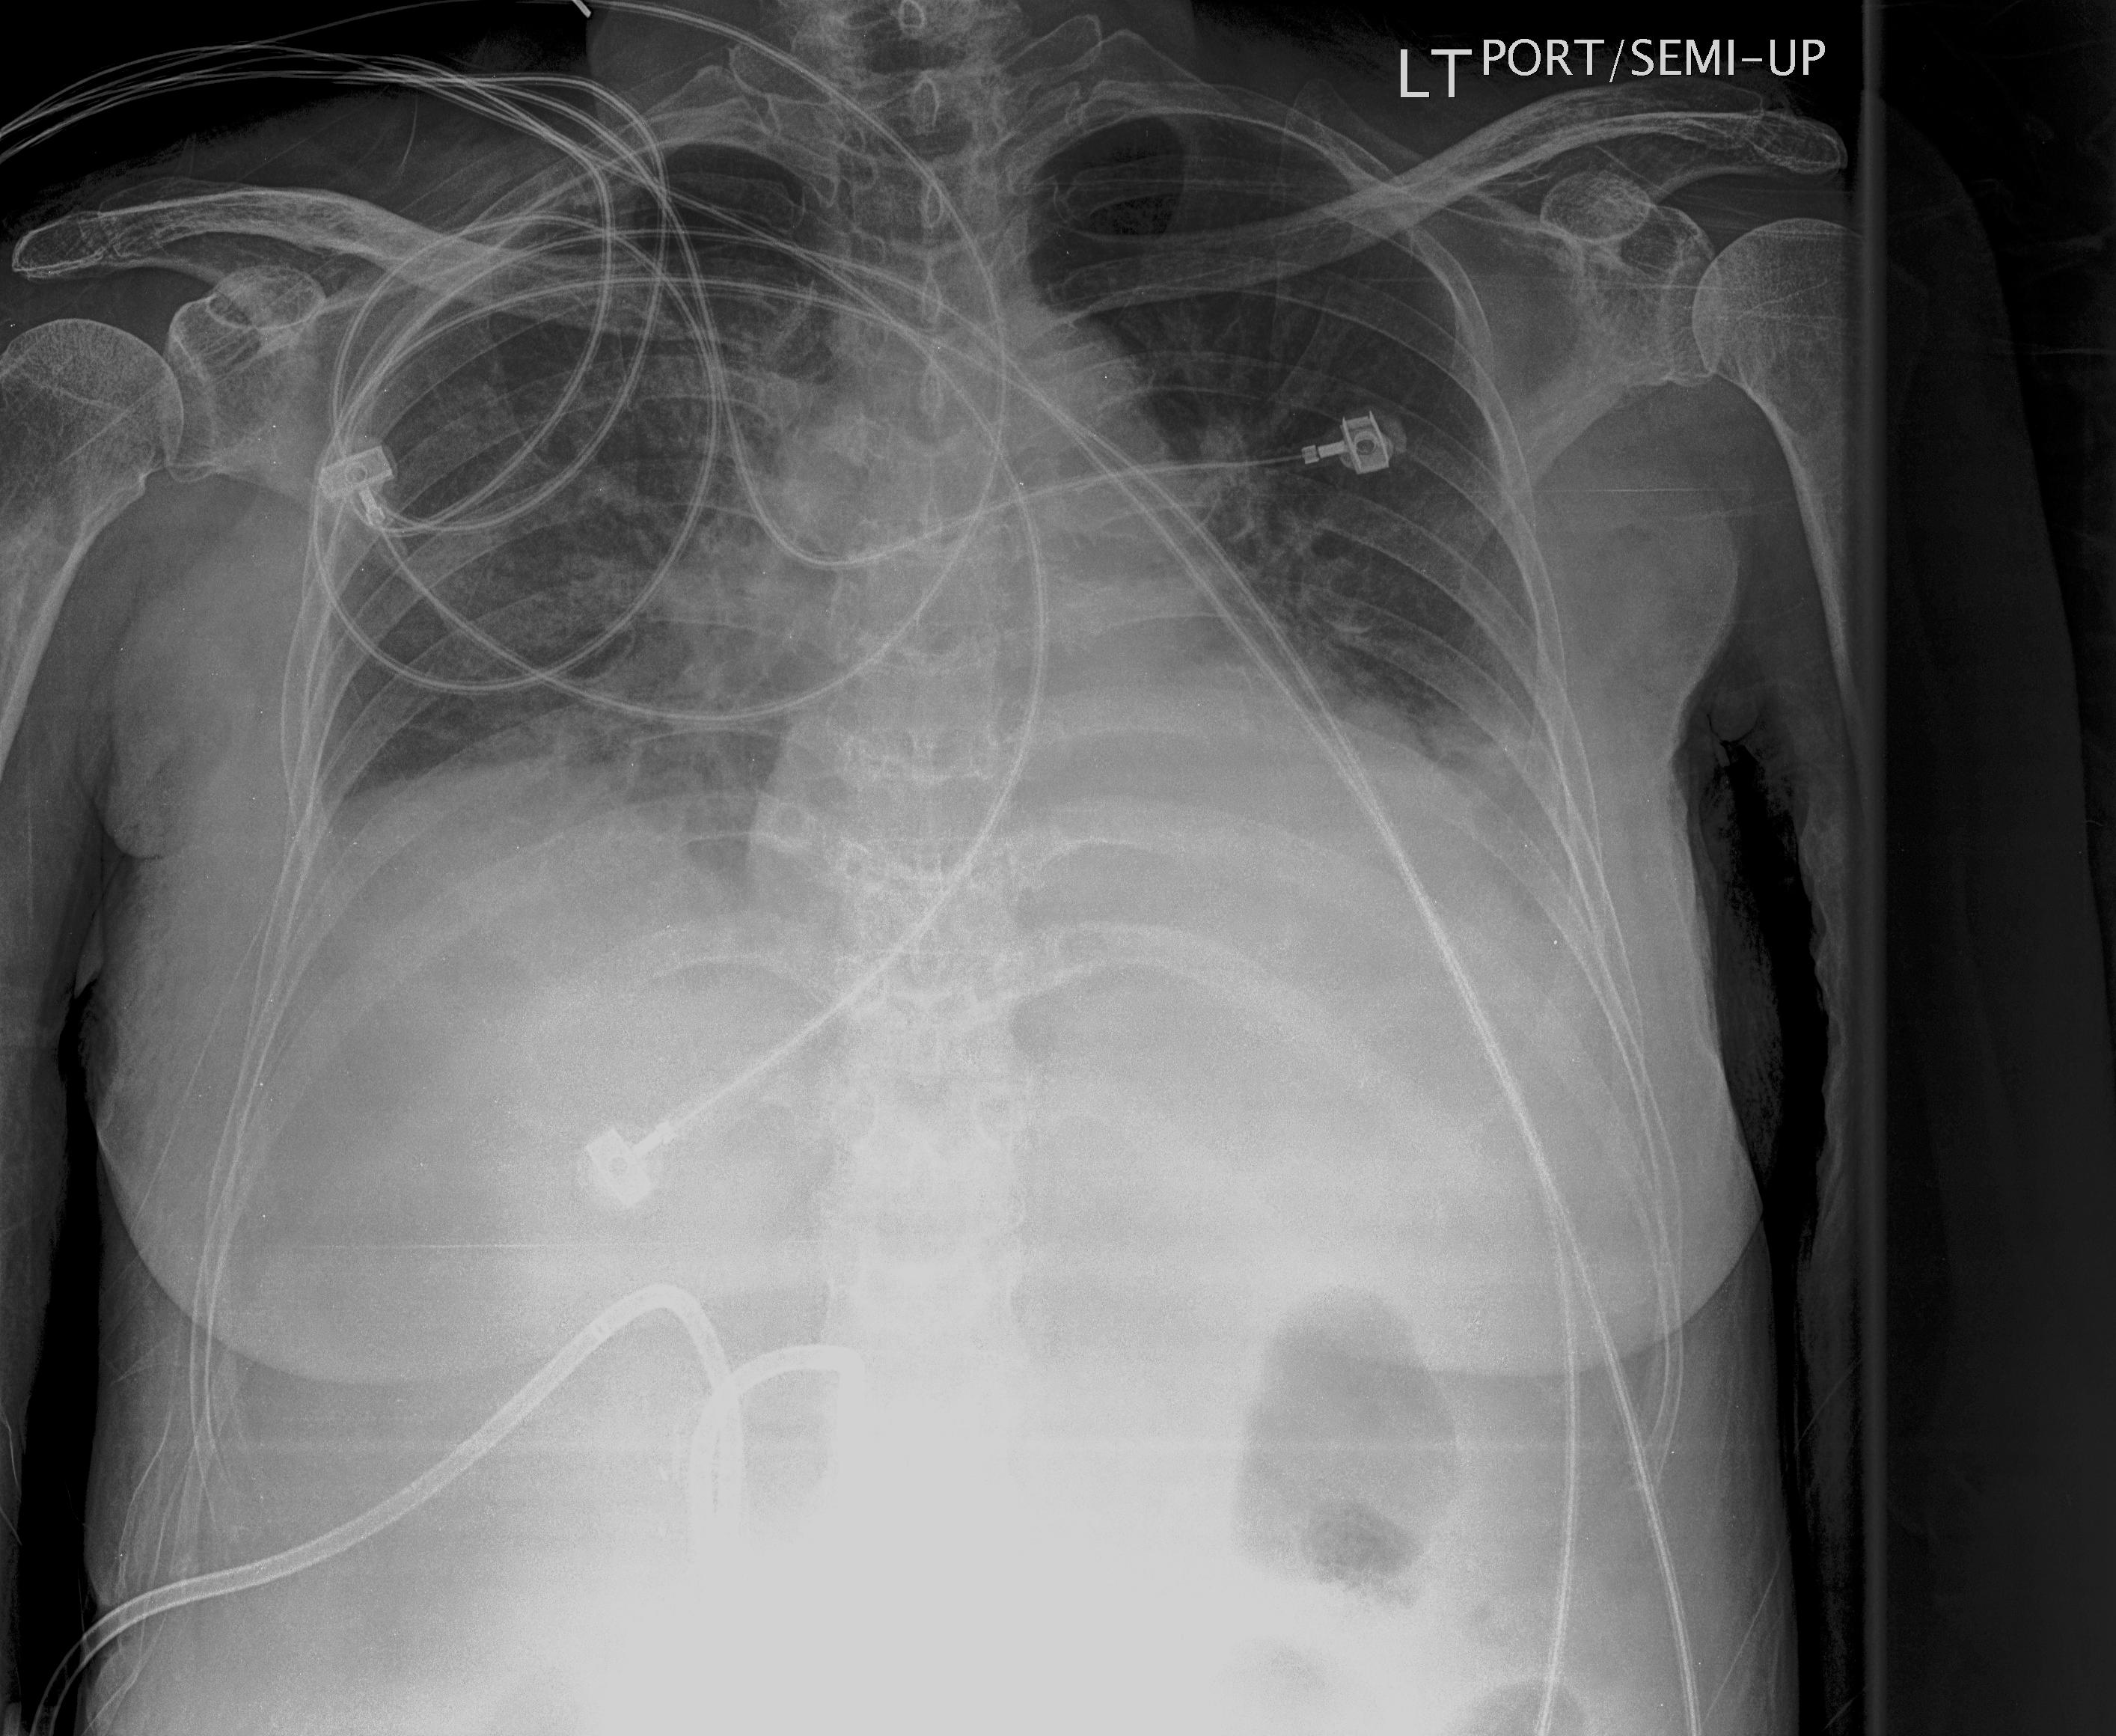Pleural Effusion: (216, 734, 647, 1374), (1346, 661, 1657, 1307)
